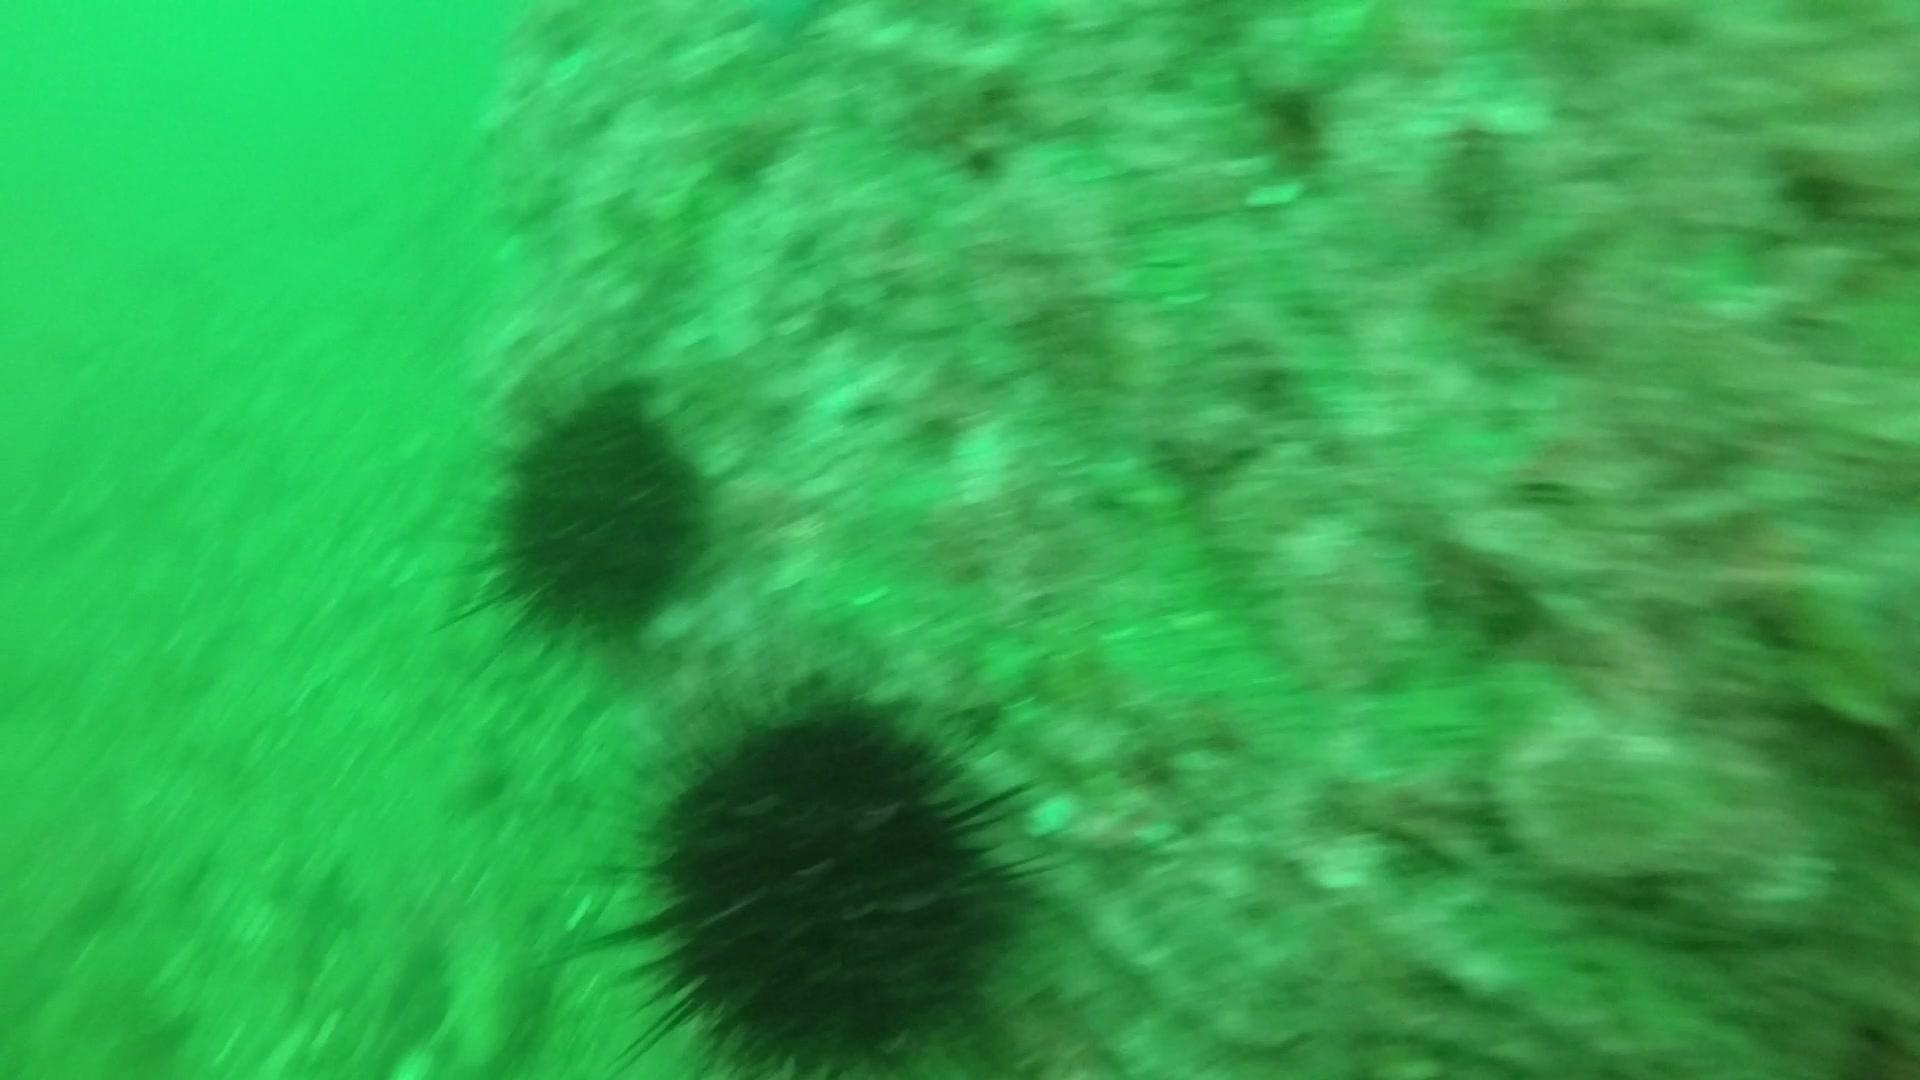echinus: (607, 676, 1048, 1069), (463, 378, 723, 650)
